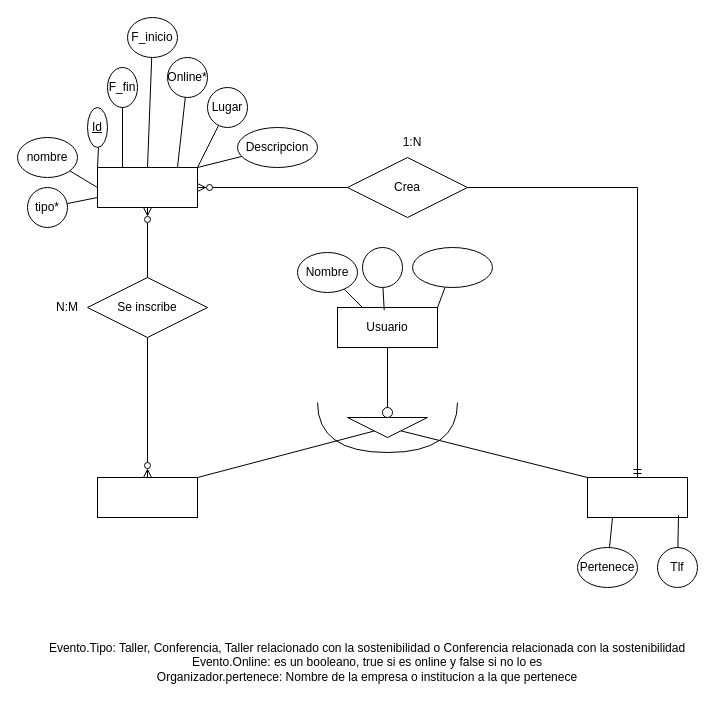
This 715x705 diagram has some shape labels left out. Here are the shapes that lost their labels. From the top down, the centre of each, then its label:
At point (147, 187): "Evento".
At point (382, 267): "Correo".
At point (452, 267): "Contraseña".
At point (147, 497): "Participante".
At point (637, 497): "Organizador".
